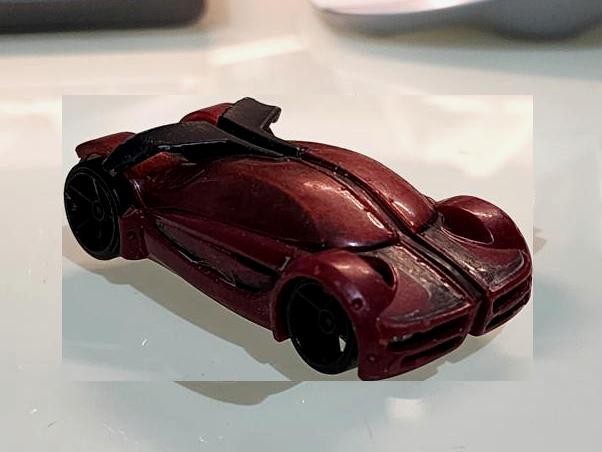toy-car: (63, 95, 534, 381)
